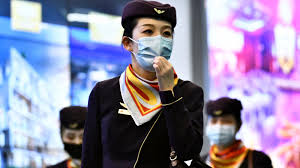mask: (117, 0, 177, 73), (202, 95, 238, 150), (59, 108, 86, 158)
